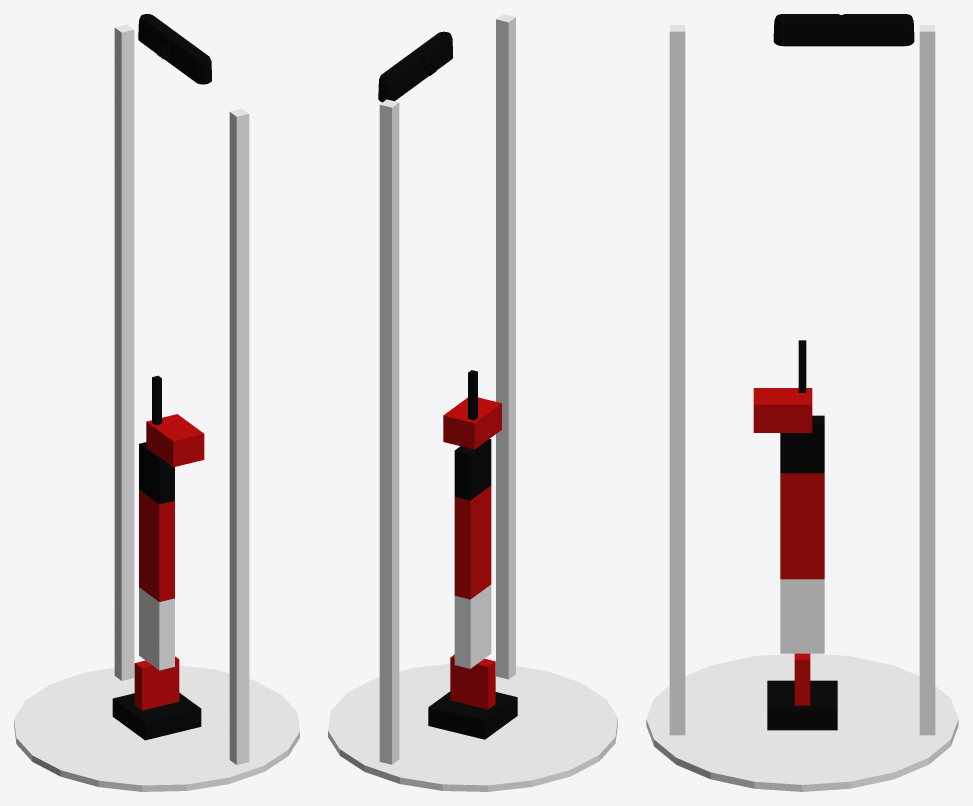
Rendered from six_dof_arm.dae.
3 views of the same model, side by side, from view 1: azimuth 30°, elevation 25°; view 2: azimuth 150°, elevation 25°; view 3: azimuth 270°, elevation 25° (orthographic). The views are drawn at different scales.
Visible parts, largest first — view 1: bottom_link, kinect_link, kinect_link2, elbow_pitch_link, base_link, rgbd_camera_link, shoulder_pitch_link, gripper_roll_link, shoulder_pan_link, wrist_pitch_link; view 2: bottom_link, kinect_link, kinect_link2, elbow_pitch_link, base_link, shoulder_pitch_link, rgbd_camera_link, gripper_roll_link, shoulder_pan_link, wrist_pitch_link; view 3: bottom_link, kinect_link, kinect_link2, elbow_pitch_link, rgbd_camera_link, shoulder_pitch_link, base_link, gripper_roll_link, wrist_pitch_link, shoulder_pan_link.
Boxes of the visible parts, x1,y1,x2,y2 form: bottom_link: (14,665,299,791); kinect_link: (114,24,134,680); kinect_link2: (229,108,249,764); elbow_pitch_link: (139,490,174,601); base_link: (112,693,201,740); rgbd_camera_link: (138,14,211,84); shoulder_pitch_link: (139,587,174,670); gripper_roll_link: (146,414,204,467); shoulder_pan_link: (134,656,179,710); wrist_pitch_link: (139,442,174,504); bottom_link: (328,663,617,791); kinect_link: (379,99,399,764); kinect_link2: (496,14,515,679); elbow_pitch_link: (454,485,491,599); base_link: (428,691,517,739); shoulder_pitch_link: (454,584,491,668); rgbd_camera_link: (378,31,452,102); gripper_roll_link: (443,397,501,449); shoulder_pan_link: (450,654,495,709); wrist_pitch_link: (454,439,491,500); bottom_link: (646,653,958,791); kinect_link: (919,25,935,735); kinect_link2: (669,25,685,735); elbow_pitch_link: (780,473,824,579); rgbd_camera_link: (773,14,914,46); shoulder_pitch_link: (780,579,824,653); base_link: (767,680,837,730); gripper_roll_link: (753,388,812,432); wrist_pitch_link: (780,415,824,473); shoulder_pan_link: (794,653,810,705).
Size of the model in its own units: 0.4 by 0.4 by 1.03.
